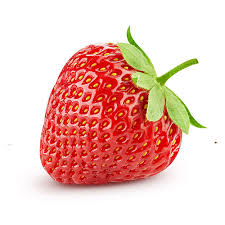strawberry: (36, 34, 197, 188)
